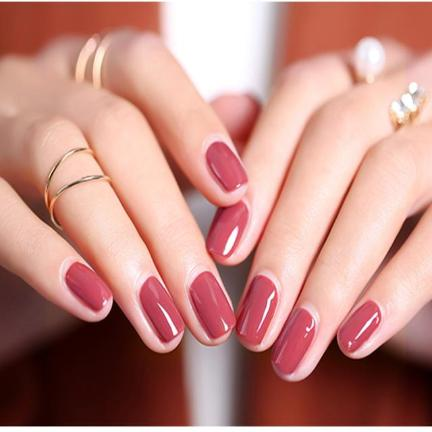Nail: (189, 271, 239, 340), (139, 276, 187, 344), (235, 275, 278, 346), (271, 308, 316, 375), (206, 199, 249, 260), (65, 261, 113, 313), (205, 141, 249, 195), (339, 300, 382, 353)
